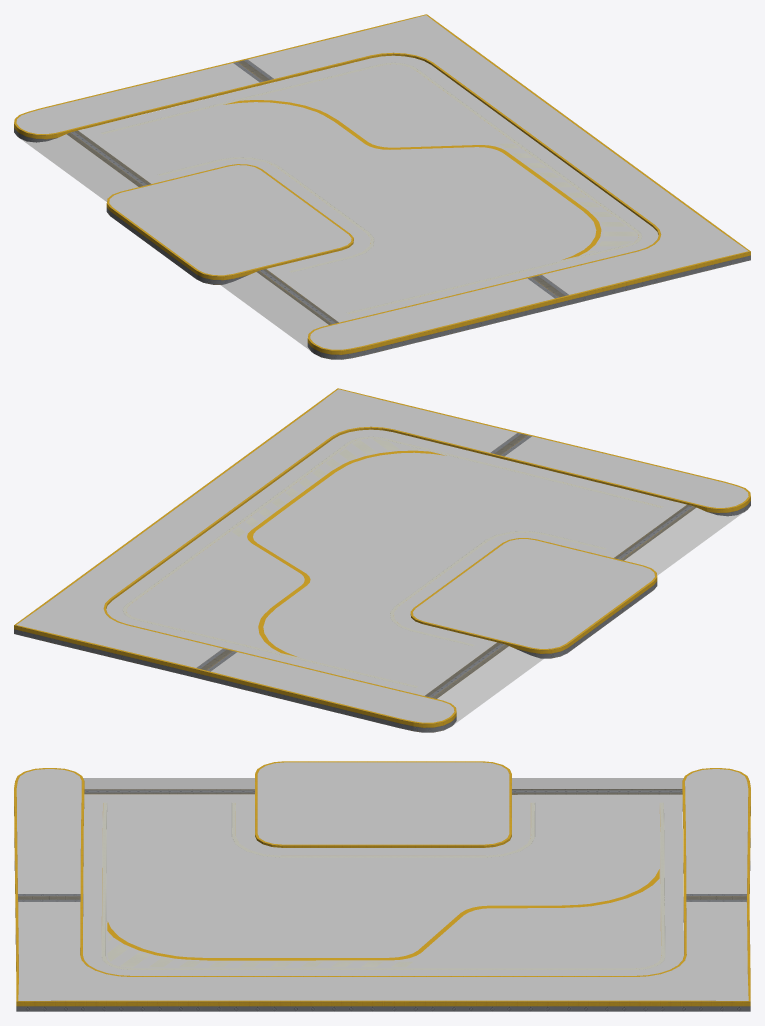
File: env_packingstation_area.fbx
3 views of the same model, one above another, from view 1: azimuth 30°, elevation 25°; view 2: azimuth 150°, elevation 25°; view 3: azimuth 270°, elevation 25° (orthographic). The views are drawn at different scales.
Parts seen in each view (by area): view 1: env_packingstation_area; view 2: env_packingstation_area; view 3: env_packingstation_area.
Boxes of the visible parts, left/top/right/bottom form: env_packingstation_area: left=14, top=14, right=750, bottom=359; env_packingstation_area: left=14, top=388, right=750, bottom=732; env_packingstation_area: left=14, top=761, right=750, bottom=1011.
Bounding box in the file's own units: 310 × 6.13 × 401.
